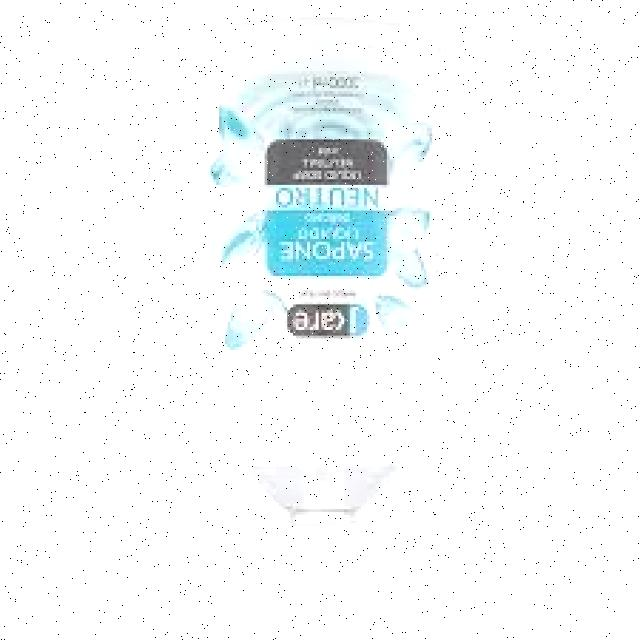liquid soap: (187, 8, 443, 636)
